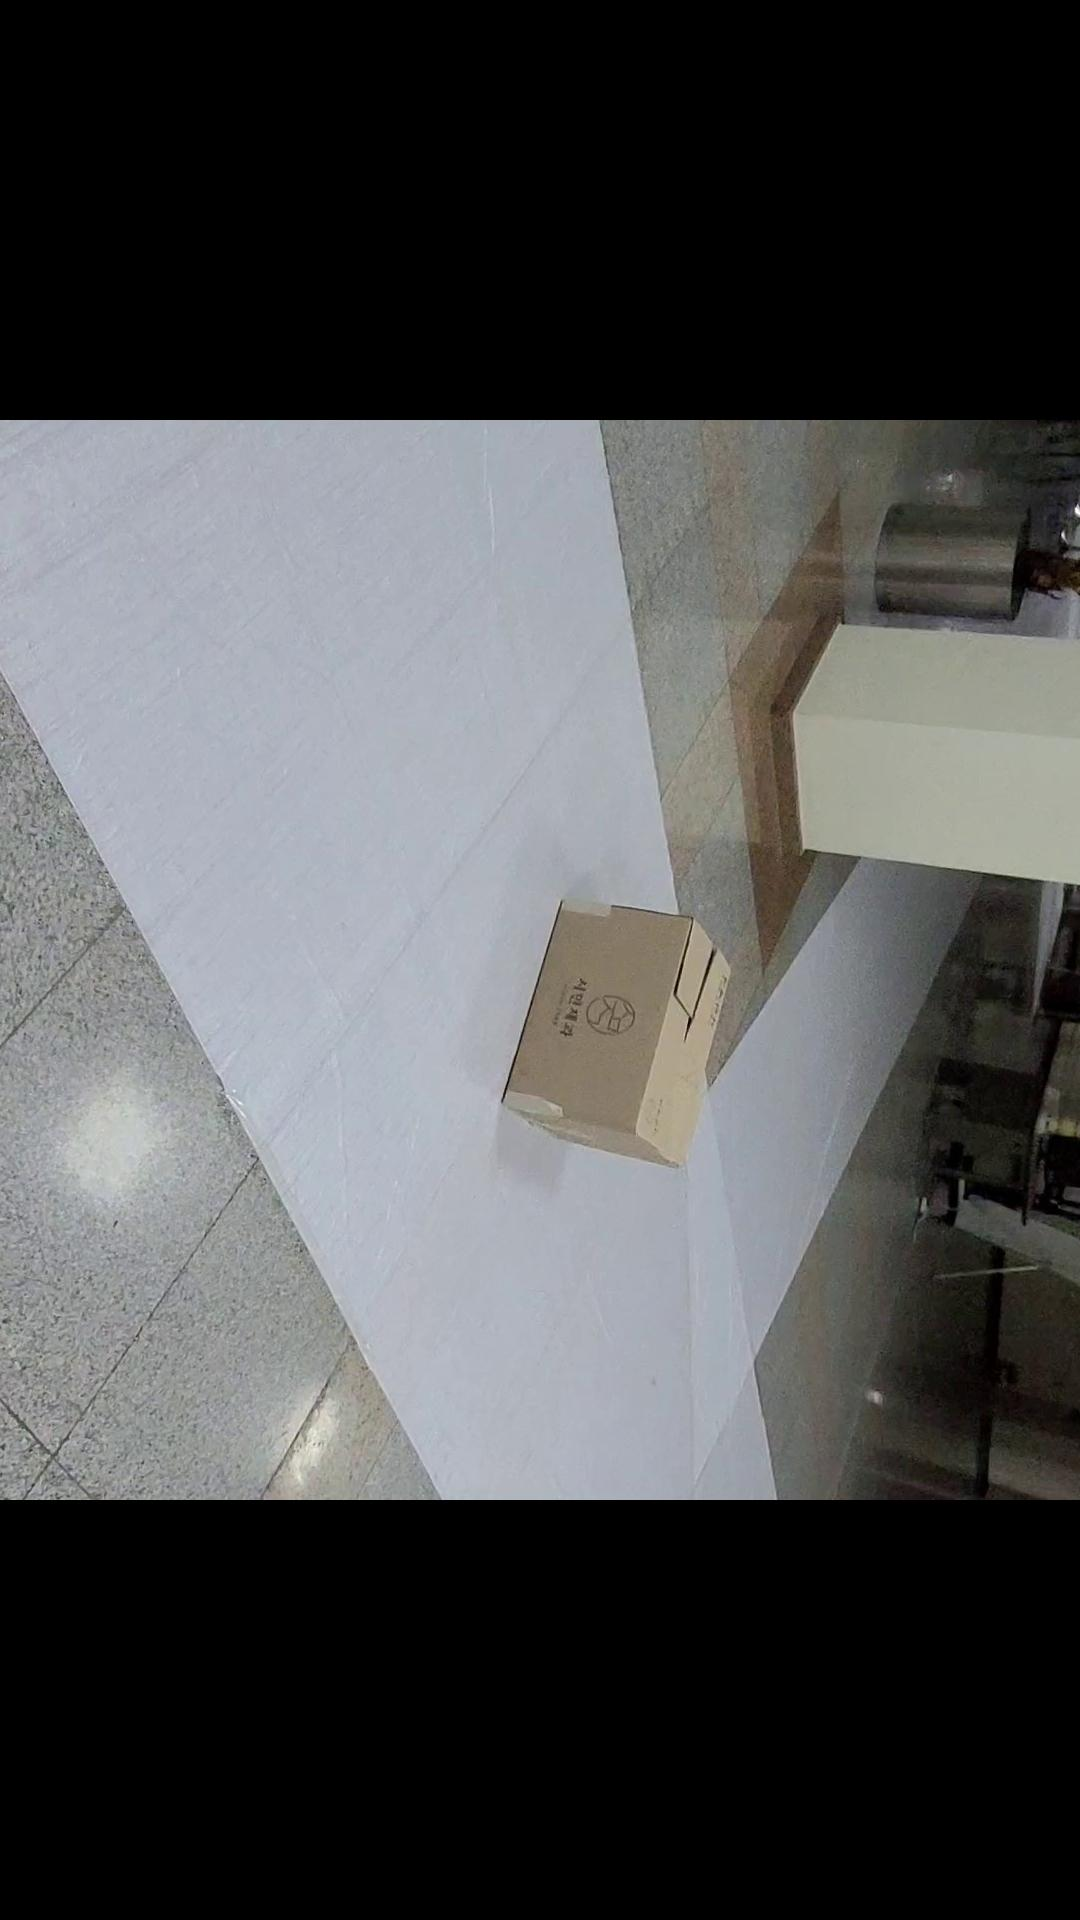Box: (475, 881, 802, 1195)
